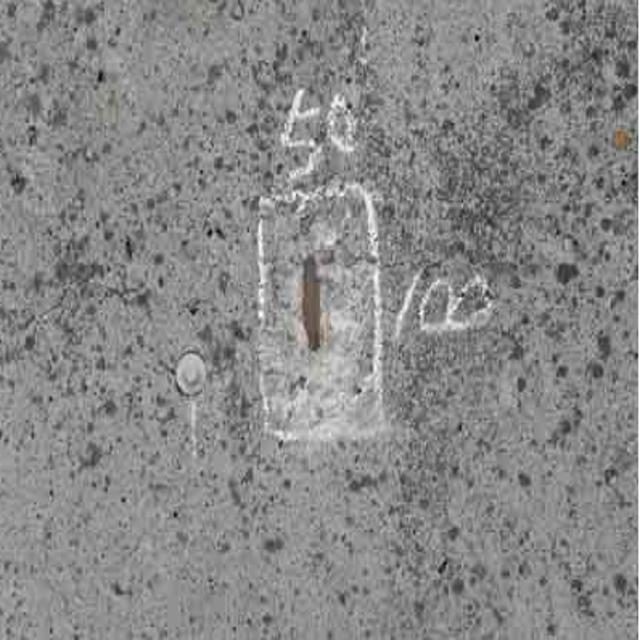spalling: (257, 217, 379, 426)
